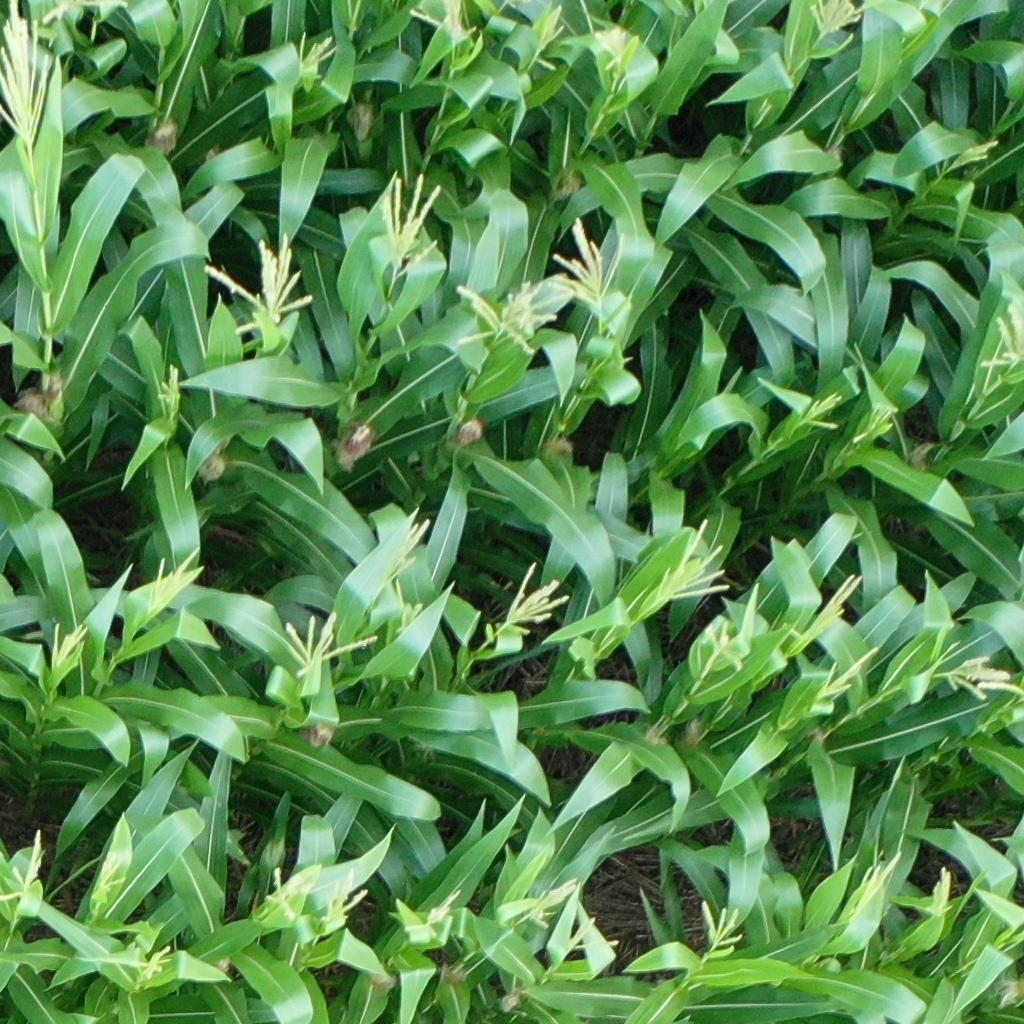Tassel: (201, 231, 310, 335), (1, 1, 74, 151), (451, 274, 561, 356), (546, 215, 628, 315), (371, 170, 443, 277), (523, 876, 617, 956), (657, 515, 735, 604), (276, 613, 377, 677), (502, 562, 572, 641), (930, 654, 1024, 711), (145, 546, 205, 620), (802, 570, 861, 645), (844, 847, 902, 922), (818, 643, 880, 702), (385, 506, 432, 580), (1, 828, 47, 903), (405, 2, 480, 43), (315, 868, 367, 927), (983, 300, 1024, 372), (594, 17, 638, 84), (530, 1, 569, 72), (404, 888, 464, 933), (700, 618, 746, 672), (264, 868, 312, 919), (89, 850, 135, 902), (702, 898, 746, 951), (295, 31, 340, 82), (808, 1, 875, 34), (388, 579, 423, 642), (133, 941, 179, 987), (948, 133, 999, 174), (48, 622, 86, 672), (853, 402, 895, 446), (802, 387, 841, 434), (154, 363, 187, 418), (926, 867, 956, 922)
